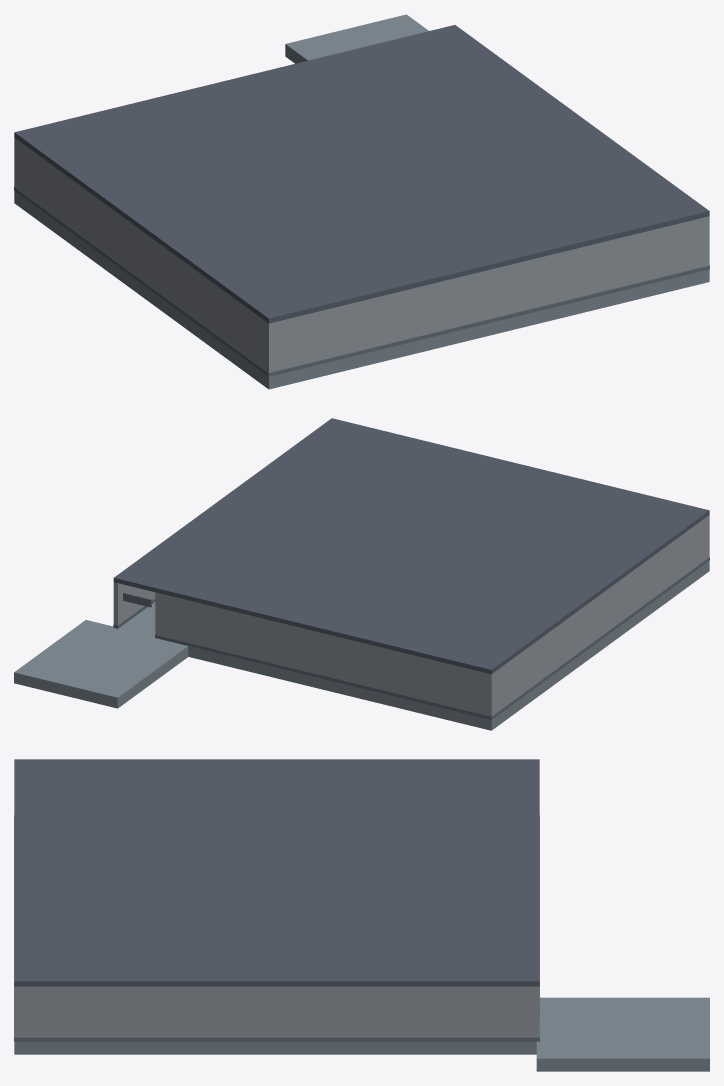
Rendered from saturno.glb.
The picture shows the model from 3 angles, top to bottom: view 1: azimuth 30°, elevation 25°; view 2: azimuth 150°, elevation 25°; view 3: azimuth 270°, elevation 25°; orthographic projection. The views are drawn at different scales.
Parts seen in each view (by area): view 1: Saturno_laberinto; view 2: Saturno_laberinto; view 3: Saturno_laberinto.
Boxes of the visible parts, x1,y1,x2,y2 form: Saturno_laberinto: [14, 14, 709, 389]; Saturno_laberinto: [14, 418, 709, 730]; Saturno_laberinto: [14, 759, 709, 1071].
Bounding box in the file's own units: 39.22 × 5.6 × 48.22.
